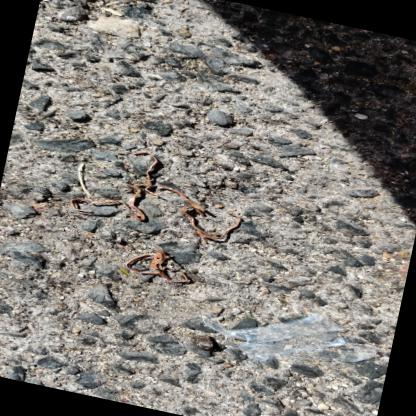Metal: (179, 205, 240, 242), (124, 248, 188, 281), (144, 183, 205, 210), (132, 150, 157, 184), (70, 197, 130, 211), (126, 183, 145, 219)
Plastic: (202, 312, 376, 361)
